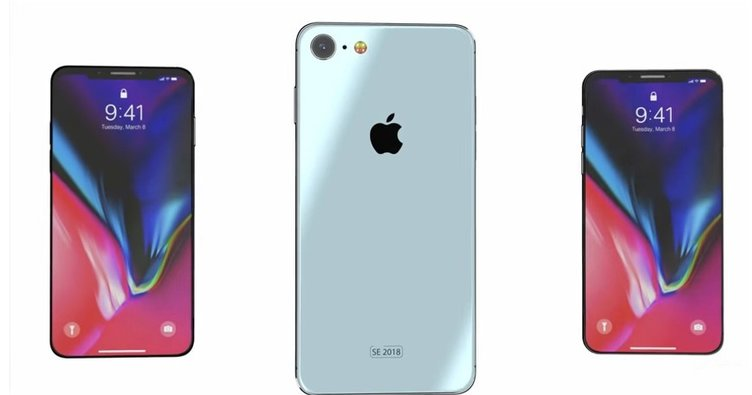apple: (363, 101, 412, 165)
